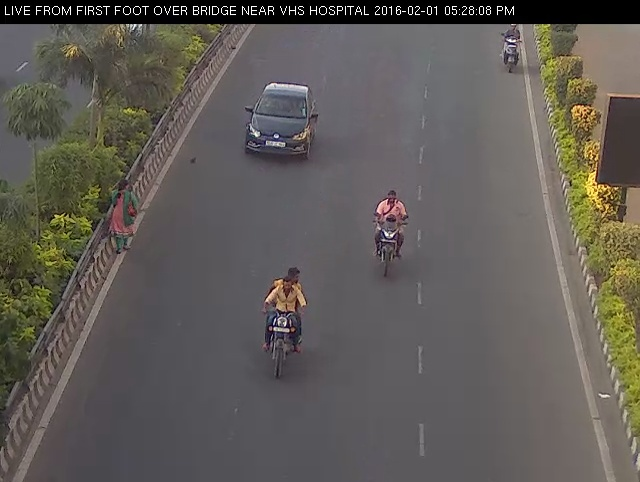Car: (241, 78, 323, 167)
Person: (256, 265, 312, 384), (367, 179, 414, 285), (100, 172, 146, 255), (497, 19, 526, 82)
